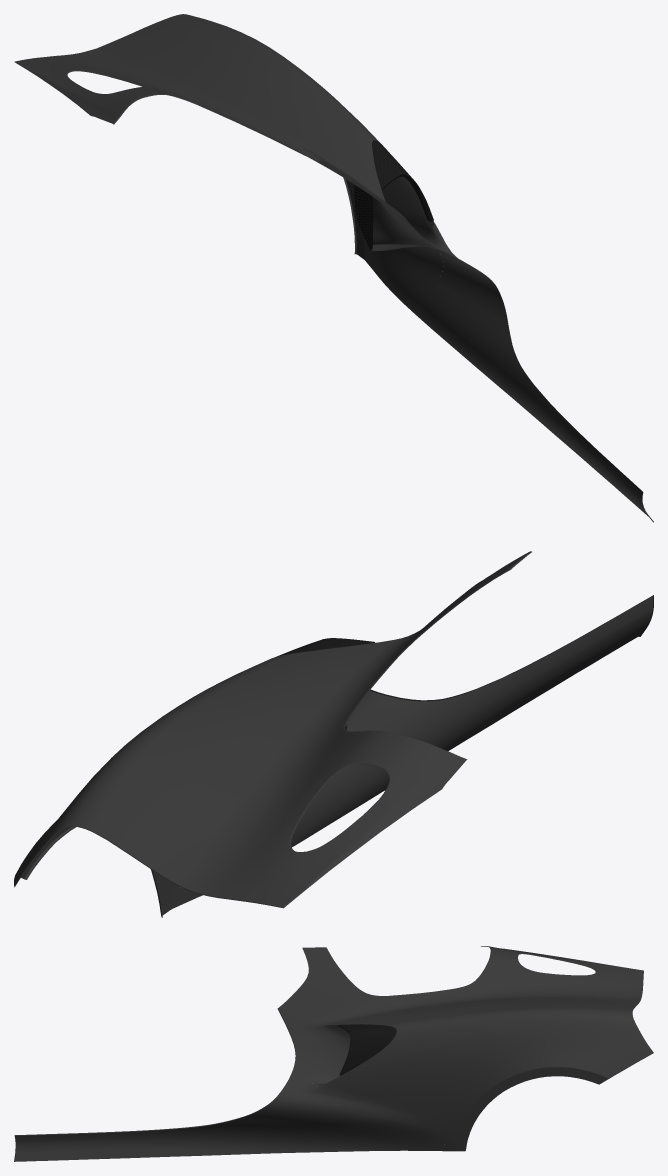
File: sparkboard_lr.glb
3 views of the same model, one above another, from view 1: azimuth 30°, elevation 25°; view 2: azimuth 150°, elevation 25°; view 3: azimuth 270°, elevation 25° (orthographic). The views are drawn at different scales.
Parts seen in each view (by area): view 1: body:Kit0_Paint_Geo_lodABody_lodA_McLaren_Elva_2021Paint_Ma. (×2); view 2: body:Kit0_Paint_Geo_lodABody_lodA_McLaren_Elva_2021Paint_Ma. (×2); view 3: body:Kit0_Paint_Geo_lodABody_lodA_McLaren_Elva_2021Paint_Ma. (×2).
Boxes of the visible parts, x1,y1,x2,y2 form: body:Kit0_Paint_Geo_lodABody_lodA_McLaren_Elva_2021Paint_Ma. (×2): (14, 14, 653, 522); body:Kit0_Paint_Geo_lodABody_lodA_McLaren_Elva_2021Paint_Ma. (×2): (14, 551, 653, 917); body:Kit0_Paint_Geo_lodABody_lodA_McLaren_Elva_2021Paint_Ma. (×2): (14, 946, 653, 1161).
Bounding box in the file's own units: 0.00807 × 0.00787 × 0.0267.
4 materials, 2 textured.
